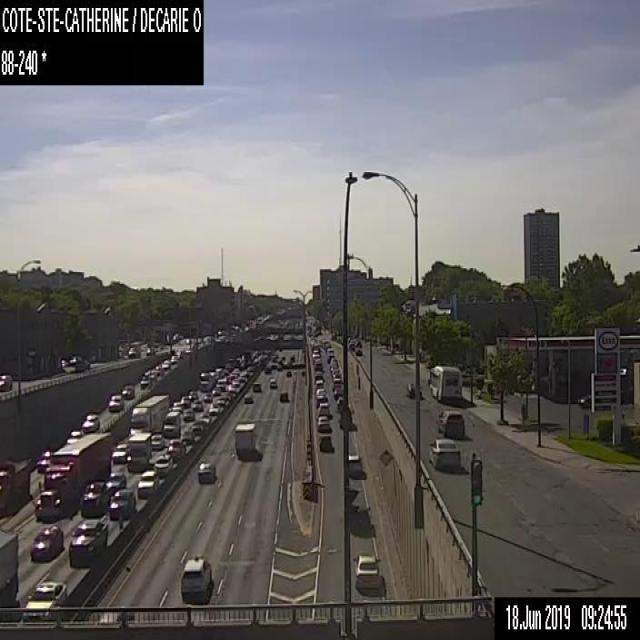bus: (428, 365, 462, 400)
vehicle: (33, 432, 110, 522), (68, 514, 108, 566), (0, 455, 30, 517), (130, 394, 168, 435), (0, 529, 18, 608), (180, 555, 212, 597), (29, 524, 63, 561), (25, 580, 66, 606), (126, 432, 151, 471), (428, 438, 459, 469), (352, 553, 380, 587), (80, 481, 105, 516), (109, 488, 135, 520), (234, 422, 257, 458), (435, 410, 464, 438), (136, 469, 158, 497), (166, 438, 186, 462), (163, 410, 180, 436), (337, 406, 353, 431), (106, 472, 125, 493), (154, 452, 172, 474), (197, 460, 215, 480), (36, 450, 52, 472), (348, 452, 362, 475), (112, 443, 126, 464), (82, 414, 99, 431), (108, 394, 123, 412), (406, 382, 422, 398), (576, 393, 592, 408), (200, 372, 212, 392), (0, 372, 12, 391), (318, 434, 332, 450), (67, 431, 82, 445), (151, 433, 164, 449), (189, 424, 203, 438), (316, 415, 328, 431), (181, 430, 194, 444), (74, 359, 89, 371), (122, 384, 134, 399), (317, 402, 329, 416), (316, 395, 328, 408), (139, 375, 150, 388), (183, 409, 194, 421), (198, 413, 210, 424), (216, 378, 227, 390), (333, 387, 343, 400), (208, 403, 219, 414), (172, 401, 182, 413), (129, 347, 140, 357), (192, 400, 203, 410), (251, 381, 261, 392), (181, 396, 190, 406), (188, 391, 198, 400), (202, 392, 212, 401), (215, 396, 225, 405), (145, 344, 154, 354), (268, 377, 276, 388), (313, 362, 322, 371), (162, 359, 170, 369), (226, 384, 236, 392), (279, 391, 287, 401), (314, 370, 322, 380), (170, 354, 178, 363), (244, 393, 252, 402), (336, 396, 343, 406), (326, 354, 334, 362), (212, 387, 220, 395), (316, 388, 325, 395), (326, 348, 333, 356), (264, 365, 271, 373), (231, 378, 239, 385), (316, 378, 322, 387), (355, 348, 362, 355), (348, 342, 355, 349), (355, 339, 361, 347), (285, 369, 291, 376), (312, 349, 318, 356), (332, 378, 342, 382), (276, 364, 282, 370), (289, 355, 295, 361), (314, 358, 320, 362), (330, 357, 336, 360)
